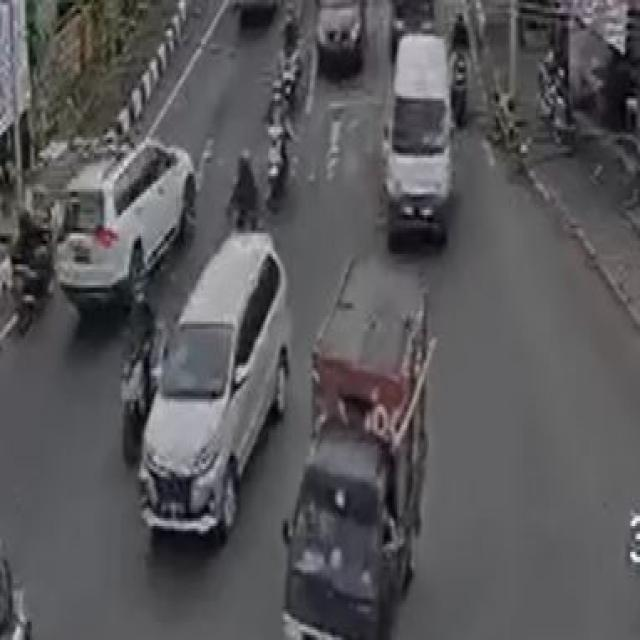car: (284, 280, 443, 640), (140, 233, 295, 577), (57, 136, 203, 335), (374, 39, 469, 261)
motorbike: (109, 269, 166, 497), (260, 78, 307, 215)
